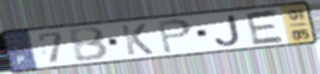7: (36, 31, 65, 65)
B: (66, 25, 112, 63)
E: (243, 8, 287, 47)
J: (213, 13, 243, 48)
K: (119, 22, 156, 57)
P: (155, 17, 194, 55)
